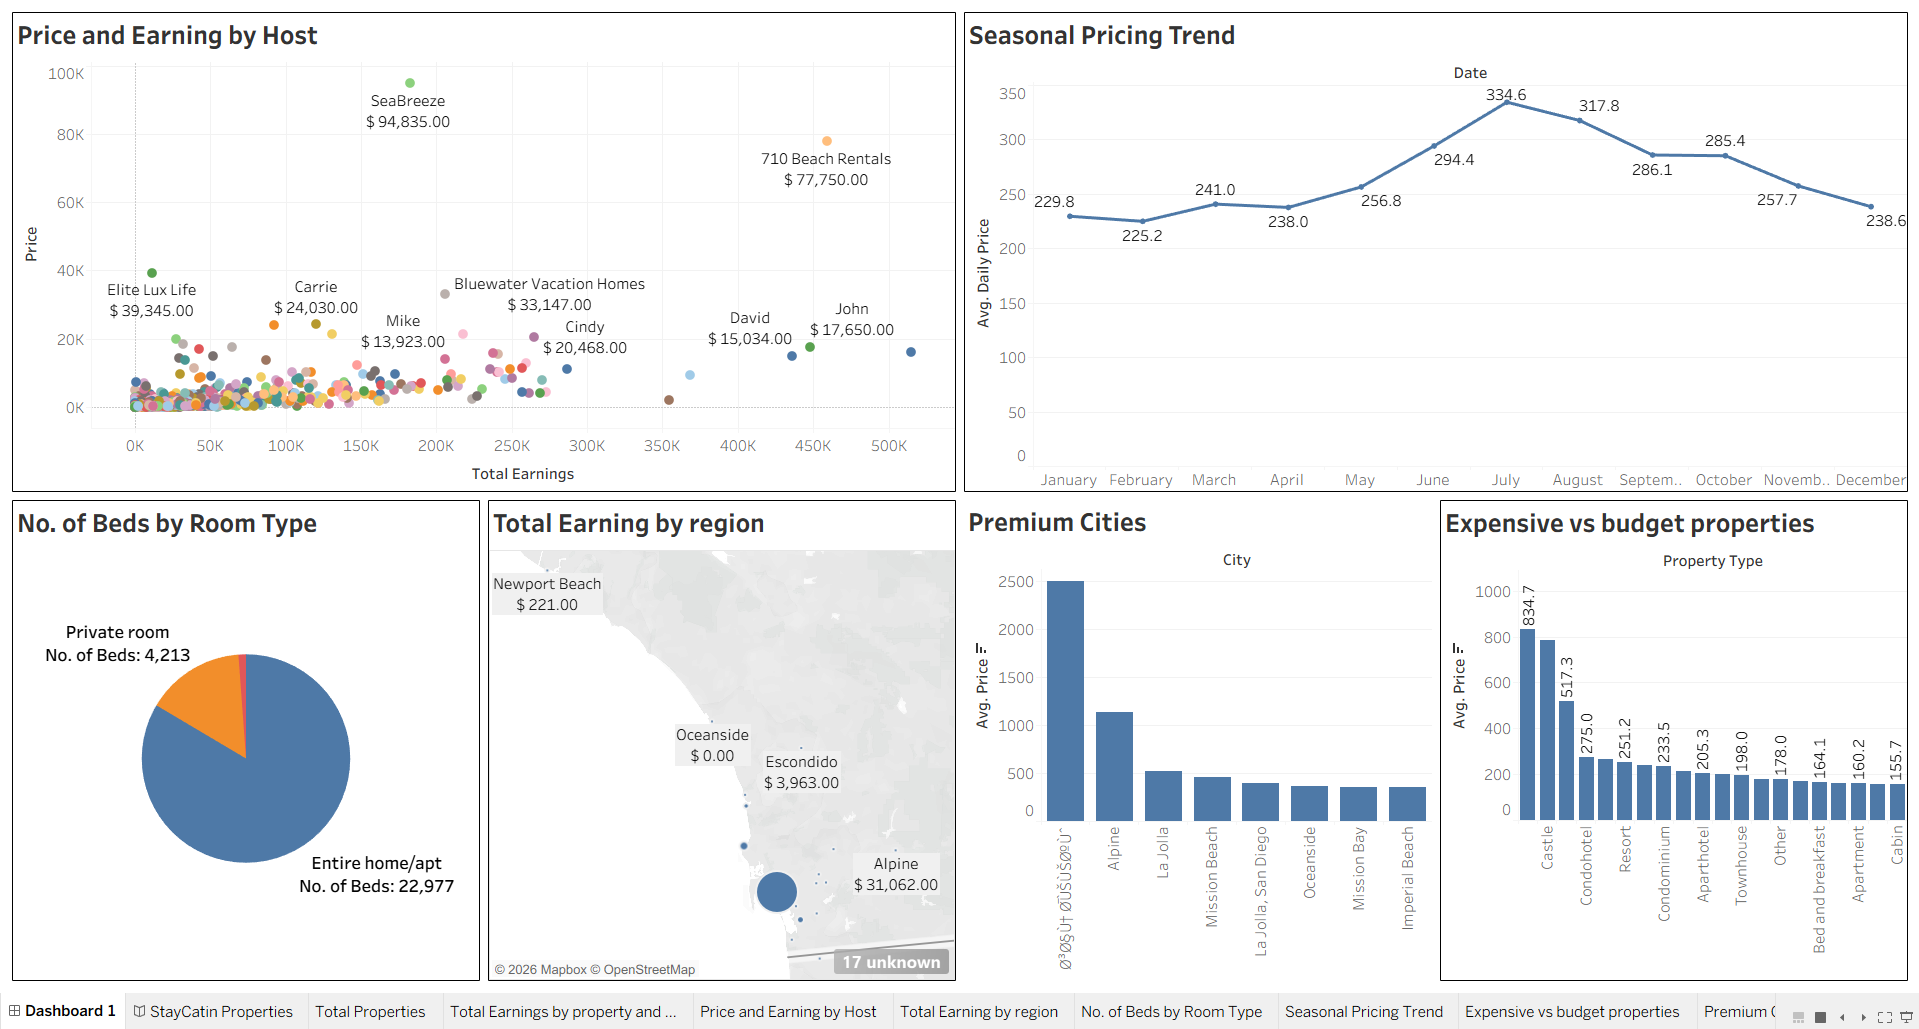

The dashboard page shown, as its layout file describes it:
{"tool":"tableau","page":{"name":"Dashboard 1","canvas":[1000,1000],"units":"permille","ordinal":0},"visuals":[{"type":"worksheet","title":"Price and Earning by Host","mark":"Automatic","rows":["PRICE"],"cols":["Calculation_1278740853684789248"],"box":[4.9,10.7,495,489.1]},{"type":"worksheet","title":"Seasonal Pricing Trend","mark":"Automatic","rows":["DAILY_PRICE"],"cols":["DATE"],"box":[499.9,10.7,495.2,489.1]},{"type":"worksheet","title":"No. of Beds by Room Type","mark":"Pie","box":[4.9,499.8,247.4,489.4]},{"type":"worksheet","title":"Total Earning by region","mark":"Automatic","box":[252.3,499.8,247.7,489.4]},{"type":"worksheet","title":"Expensive vs budget properties","mark":"Automatic","rows":["PRICE"],"cols":["PROPERTY_TYPE"],"box":[500,499.8,495.1,489.4]}]}

Visuals, with their boxes on the dashboard's canvas, which has no fixed pixel size, in thousandths of its width and height (x1, y1, x2, y2). These are canvas units, not pixel positions in the 1919x1029 screenshot, which may show the page scaled, cropped or inside an application window:
"Price and Earning by Host" worksheet: {"left": 5, "top": 11, "right": 500, "bottom": 500}
"Seasonal Pricing Trend" worksheet: {"left": 500, "top": 11, "right": 995, "bottom": 500}
"No. of Beds by Room Type" worksheet (Pie marks): {"left": 5, "top": 500, "right": 252, "bottom": 989}
"Total Earning by region" worksheet: {"left": 252, "top": 500, "right": 500, "bottom": 989}
"Expensive vs budget properties" worksheet: {"left": 500, "top": 500, "right": 995, "bottom": 989}
